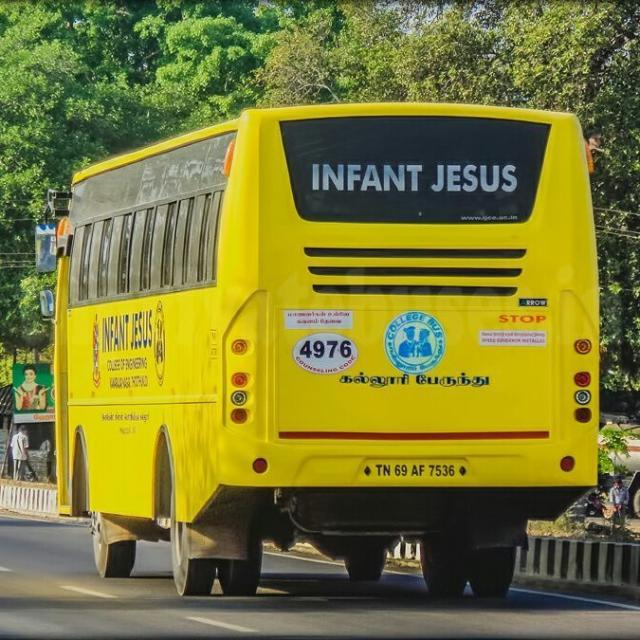Bus: (29, 104, 602, 596)
